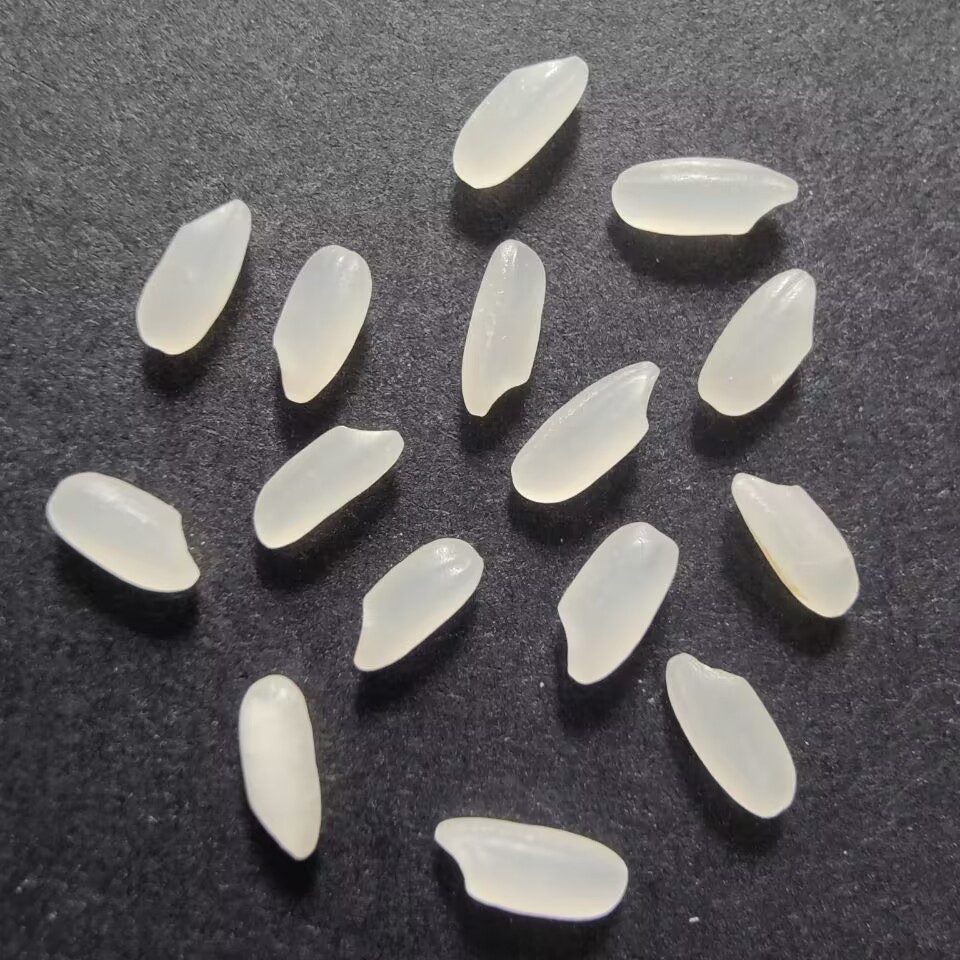rice: (662, 650, 804, 826), (508, 357, 670, 507), (425, 811, 633, 923), (549, 517, 685, 688), (41, 467, 207, 600), (727, 466, 865, 622), (249, 420, 412, 552), (129, 193, 255, 360), (691, 262, 821, 420), (444, 51, 591, 190), (349, 532, 489, 677), (230, 668, 333, 864), (269, 241, 377, 410), (459, 236, 552, 424), (603, 151, 803, 237)
